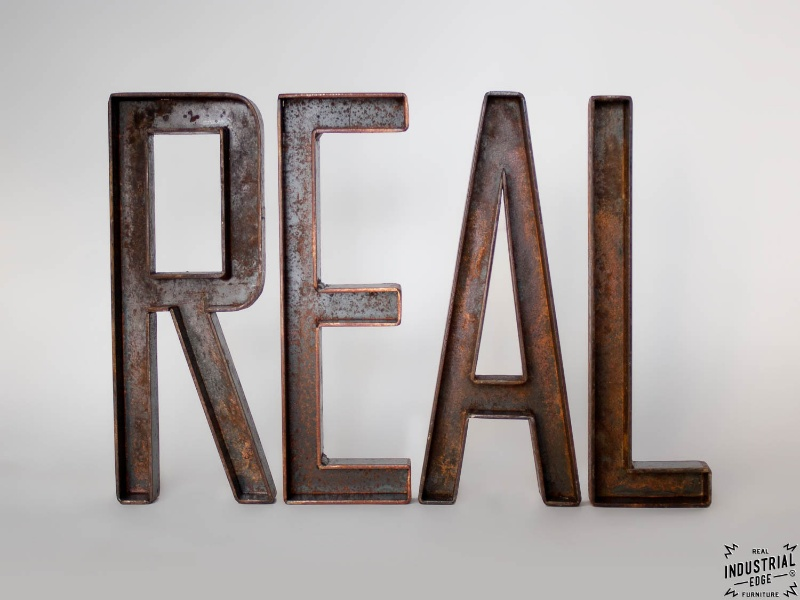letters: (95, 90, 281, 507), (422, 89, 583, 508), (580, 94, 718, 513), (280, 92, 418, 504)
